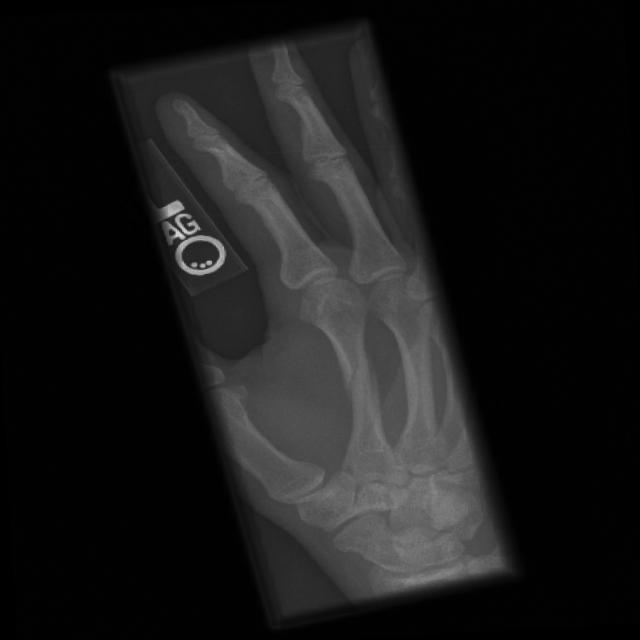fingers positive: (317, 341, 384, 412)
